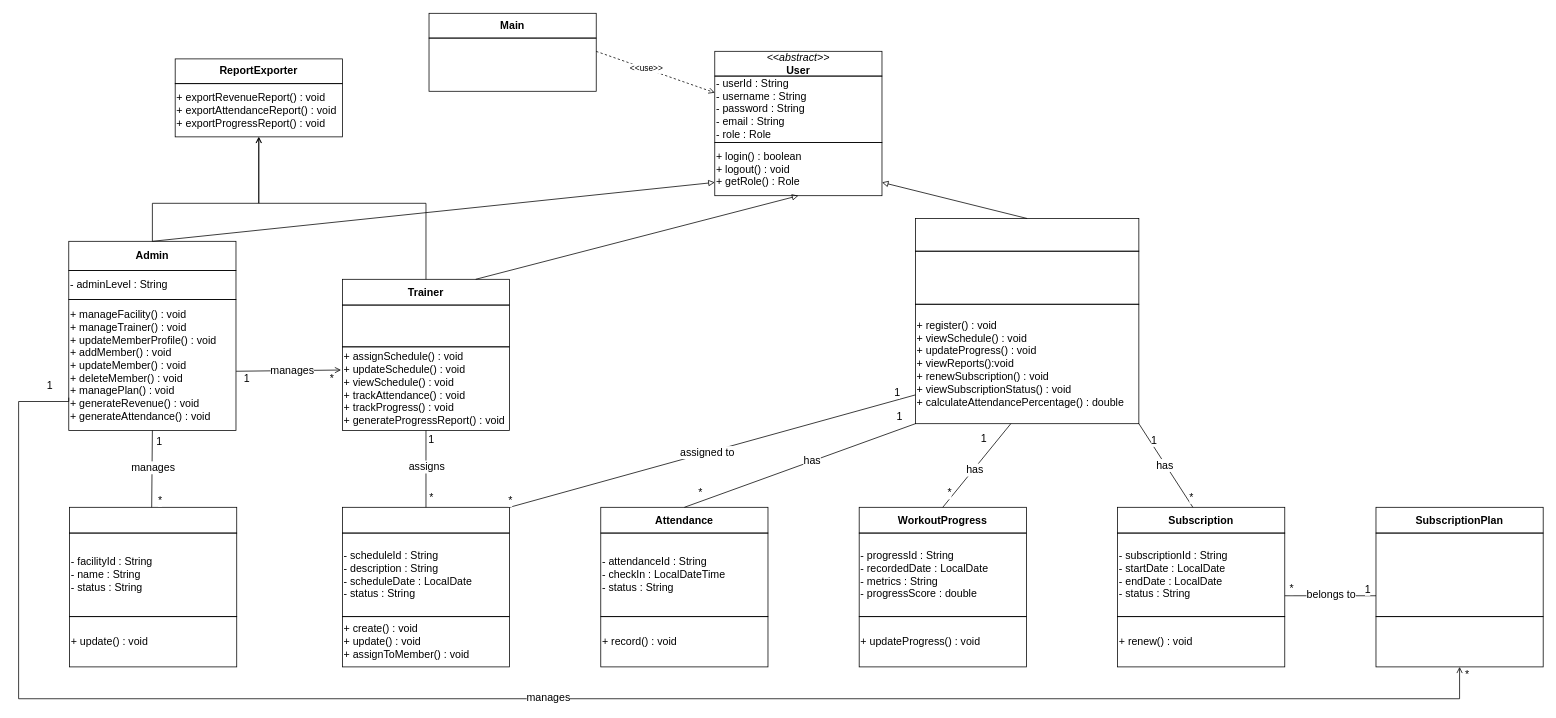
The diagram is 1556 pixels wide and 718 high, and some of its shapes have lost their labels. Each missing label, with the centre of its shape:
+ main(String[] args): void: (x=512, y=64)
+ updatePlan() : void: (x=1459, y=641)
- phoneNumber : String - dateOfBirth : LocalDate: (x=1027, y=277)
- planId : String - planName : String - price : double - durationMonths : int: (x=1459, y=574)
- specialization : String: (x=426, y=325)
Facility: (x=153, y=520)
Member: (x=1027, y=234)
WorkoutSchedule: (x=426, y=520)
